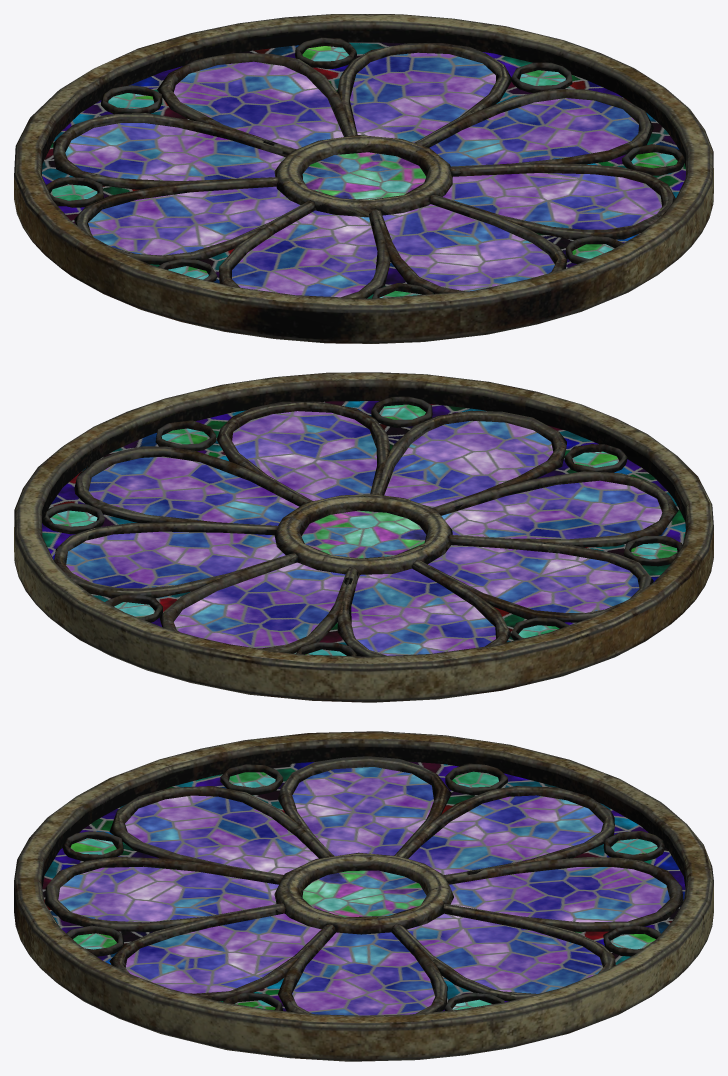
Rendered from stainedglass.gltf.
The picture shows the model from 3 angles, top to bottom: view 1: azimuth 30°, elevation 25°; view 2: azimuth 150°, elevation 25°; view 3: azimuth 270°, elevation 25°; orthographic projection.
Visible parts, largest first — view 1: Mesh; view 2: Mesh; view 3: Mesh.
Part boxes in pixels (x1,y1,x2,y2): Mesh: [14, 14, 713, 343]; Mesh: [14, 372, 713, 702]; Mesh: [14, 731, 713, 1061].
Bounding box in the file's own units: 271 × 16.12 × 271.
Materials: 2 (2 with a texture image).
